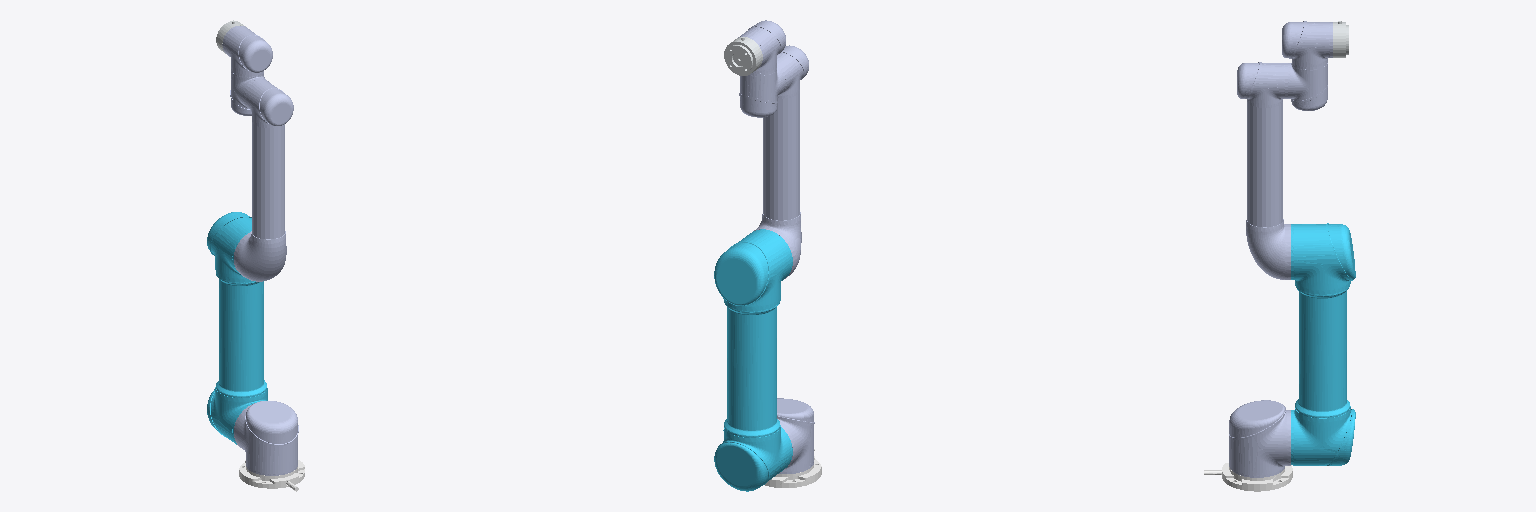
The robot description file, URDF, robot "ur5_description":
<?xml version="1.0" encoding="utf-8"?>
<!-- This URDF was automatically created by SolidWorks to URDF Exporter! Originally created by [author] ([email redacted]) 
     Commit Version: 1.5.1-0-g916b5db  Build Version: 1.5.7152.31018
     For more information, please see http://wiki.ros.org/sw_urdf_exporter -->
<robot
  name="ur5_description">
  <link
    name="base_link">
    <inertial>
      <origin
        xyz="2.2379E-05 -0.00077074 0.010876"
        rpy="0 0 0" />
      <mass
        value="0.34861" />
      <inertia
        ixx="0.00045733"
        ixy="7.2083E-08"
        ixz="5.4072E-08"
        iyy="0.00042831"
        iyz="-5.9393E-07"
        izz="0.00085476" />
    </inertial>
    <visual>
      <origin
        xyz="0 0 0"
        rpy="0 0 0" />
      <geometry>
        <mesh
          filename="package://ur5_description/meshes/base_link.STL" />
      </geometry>
      <material
        name="">
        <color
          rgba="1 1 1 1" />
      </material>
    </visual>
    <collision>
      <origin
        xyz="0 0 0"
        rpy="0 0 0" />
      <geometry>
        <mesh
          filename="package://ur5_description/meshes/base_link.STL" />
      </geometry>
    </collision>
  </link>
  <link
    name="link_1">
    <inertial>
      <origin
        xyz="1.8316E-06 0.063328 -0.0092426"
        rpy="0 0 0" />
      <mass
        value="1.556" />
      <inertia
        ixx="0.0028144"
        ixy="-3.5877E-08"
        ixz="-2.053E-08"
        iyy="0.0030181"
        iyz="0.00041338"
        izz="0.0025808" />
    </inertial>
    <visual>
      <origin
        xyz="0 0 0"
        rpy="0 0 0" />
      <geometry>
        <mesh
          filename="package://ur5_description/meshes/link_1.STL" />
      </geometry>
      <material
        name="">
        <color
          rgba="0.79216 0.81961 0.93333 1" />
      </material>
    </visual>
    <collision>
      <origin
        xyz="0 0 0"
        rpy="0 0 0" />
      <geometry>
        <mesh
          filename="package://ur5_description/meshes/link_1.STL" />
      </geometry>
    </collision>
  </link>
  <joint
    name="joint_1"
    type="revolute">
    <origin
      xyz="0 0 0.024"
      rpy="1.5708 0 0" />
    <parent
      link="base_link" />
    <child
      link="link_1" />
    <axis
      xyz="0 -1 0" />
    <limit
      lower="-3.14"
      upper="3.14"
      effort="150"
      velocity="3.14" />
  </joint>
  <link
    name="link_2">
    <inertial>
      <origin
        xyz="-6.9975481714835E-09 0.212500774803063 -0.0641198851376631"
        rpy="0 0 0" />
      <mass
        value="5.39321385176719" />
      <inertia
        ixx="0.0229052047363308"
        ixy="-3.80485736402523E-08"
        ixz="-1.33095715729492E-09"
        iyy="0.00808975921379843"
        iyz="-5.25735080933302E-10"
        izz="0.0233126134438523" />
    </inertial>
    <visual>
      <origin
        xyz="0 0 0"
        rpy="0 0 0" />
      <geometry>
        <mesh
          filename="package://ur5_description/meshes/link_2.STL" />
      </geometry>
      <material
        name="">
        <color
          rgba="0.333333333333333 0.862745098039216 1 1" />
      </material>
    </visual>
    <collision>
      <origin
        xyz="0 0 0"
        rpy="0 0 0" />
      <geometry>
        <mesh
          filename="package://ur5_description/meshes/link_2.STL" />
      </geometry>
    </collision>
  </link>
  <joint
    name="joint_2"
    type="revolute">
    <origin
      xyz="0 0.0652 -0.0705"
      rpy="0 0 0" />
    <parent
      link="link_1" />
    <child
      link="link_2" />
    <axis
      xyz="0 0 1" />
    <limit
      lower="-3.14"
      upper="3.14"
      effort="150"
      velocity="3.14" />
  </joint>
  <link
    name="link_3">
    <inertial>
      <origin
        xyz="4.48591355879564E-08 0.184385161816603 0.0500891493611347"
        rpy="0 0 0" />
      <mass
        value="2.51858519755964" />
      <inertia
        ixx="0.00958504077999387"
        ixy="4.148722095138E-08"
        ixz="6.14723476893109E-09"
        iyy="0.00217646355290865"
        iyz="-0.00015208461045435"
        izz="0.00967914820040632" />
    </inertial>
    <visual>
      <origin
        xyz="0 0 0"
        rpy="0 0 0" />
      <geometry>
        <mesh
          filename="package://ur5_description/meshes/link_3.STL" />
      </geometry>
      <material
        name="">
        <color
          rgba="0.792156862745098 0.819607843137255 0.933333333333333 1" />
      </material>
    </visual>
    <collision>
      <origin
        xyz="0 0 0"
        rpy="0 0 0" />
      <geometry>
        <mesh
          filename="package://ur5_description/meshes/link_3.STL" />
      </geometry>
    </collision>
  </link>
  <joint
    name="joint_3"
    type="revolute">
    <origin
      xyz="0 0.425 0"
      rpy="0 0 0" />
    <parent
      link="link_2" />
    <child
      link="link_3" />
    <axis
      xyz="0 0 1" />
    <limit
      lower="-3.14"
      upper="3.14"
      effort="150"
      velocity="3.14" />
  </joint>
  <link
    name="link_4">
    <inertial>
      <origin
        xyz="0.000267439864317399 -0.00317622153547115 -0.0410560934864477"
        rpy="0 0 0" />
      <mass
        value="0.515206254007367" />
      <inertia
        ixx="0.000399706734339536"
        ixy="-2.82972081805418E-10"
        ixz="-9.65116686398988E-09"
        iyy="0.000407751087898542"
        iyz="5.63390381941324E-05"
        izz="0.000372352818817745" />
    </inertial>
    <visual>
      <origin
        xyz="0 0 0"
        rpy="0 0 0" />
      <geometry>
        <mesh
          filename="package://ur5_description/meshes/link_4.STL" />
      </geometry>
      <material
        name="">
        <color
          rgba="0.792156862745098 0.819607843137255 0.933333333333333 1" />
      </material>
    </visual>
    <collision>
      <origin
        xyz="0 0 0"
        rpy="0 0 0" />
      <geometry>
        <mesh
          filename="package://ur5_description/meshes/link_4.STL" />
      </geometry>
    </collision>
  </link>
  <joint
    name="joint_4"
    type="revolute">
    <origin
      xyz="0 0.39243 0.007"
      rpy="0 0 0" />
    <parent
      link="link_3" />
    <child
      link="link_4" />
    <axis
      xyz="0 0 -1" />
    <limit
      lower="-3.14"
      upper="3.14"
      effort="150"
      velocity="3.14" />
  </joint>
  <link
    name="link_5">
    <inertial>
      <origin
        xyz="7.83854854126579E-05 0.041077285875557 0.00362613301231042"
        rpy="0 0 0" />
      <mass
        value="0.514944791822967" />
      <inertia
        ixx="0.000399268233437844"
        ixy="5.80168826194153E-09"
        ixz="-4.61368287522735E-09"
        iyy="0.000372230714889473"
        iyz="5.62591191055601E-05"
        izz="0.000407328693172721" />
    </inertial>
    <visual>
      <origin
        xyz="0 0 0"
        rpy="0 0 0" />
      <geometry>
        <mesh
          filename="package://ur5_description/meshes/link_5.STL" />
      </geometry>
      <material
        name="">
        <color
          rgba="0.792156862745098 0.819607843137255 0.933333333333333 1" />
      </material>
    </visual>
    <collision>
      <origin
        xyz="0 0 0"
        rpy="0 0 0" />
      <geometry>
        <mesh
          filename="package://ur5_description/meshes/link_5.STL" />
      </geometry>
    </collision>
  </link>
  <joint
    name="joint_5"
    type="revolute">
    <origin
      xyz="0.00026549 0.047898 -0.0455"
      rpy="0 0 0" />
    <parent
      link="link_4" />
    <child
      link="link_5" />
    <axis
      xyz="0 1 0" />
    <limit
      lower="-3.14"
      upper="3.14"
      effort="150"
      velocity="3.14" />
  </joint>
  <link
    name="link_6">
    <inertial>
      <origin
        xyz="1.259858710466E-09 6.22572740960337E-05 -0.0157714392324549"
        rpy="0 0 0" />
      <mass
        value="0.137899158818492" />
      <inertia
        ixx="5.98863552131521E-05"
        ixy="-5.2187246790267E-12"
        ixz="-1.57401817933674E-13"
        iyy="5.95416899053166E-05"
        iyz="-6.61913792737833E-09"
        izz="9.55326593779328E-05" />
    </inertial>
    <visual>
      <origin
        xyz="0 0 0"
        rpy="0 0 0" />
      <geometry>
        <mesh
          filename="package://ur5_description/meshes/link_6.STL" />
      </geometry>
      <material
        name="">
        <color
          rgba="0.898039215686275 0.917647058823529 0.929411764705882 1" />
      </material>
    </visual>
    <collision>
      <origin
        xyz="0 0 0"
        rpy="0 0 0" />
      <geometry>
        <mesh
          filename="package://ur5_description/meshes/link_6.STL" />
      </geometry>
    </collision>
  </link>
  <joint
    name="joint_6"
    type="revolute">
    <origin
      xyz="7.9254E-05 0.0455 -0.047451"
      rpy="0 0 0" />
    <parent
      link="link_5" />
    <child
      link="link_6" />
    <axis
      xyz="0 0 -1" />
    <limit
      lower="-3.14"
      upper="3.14"
      effort="150"
      velocity="3.14" />
  </joint>
</robot>

--- What the picture shows (computed from the rendered views, not written in the file) ---
Views: 3 orthographic renders of the robot side by side, from view 1: azimuth 30°, elevation 25°; view 2: azimuth 150°, elevation 25°; view 3: azimuth 270°, elevation 25°.
Robot: ur5_description — 7 links, 6 joints (6 revolute); root link base_link; default pose: all joints at 0.
Visible links, largest first — view 1: link_2, link_3, link_1, link_5, base_link, link_4; view 2: link_2, link_3, link_1, link_4, link_5, link_6, base_link; view 3: link_2, link_3, link_1, link_5, link_4, base_link, link_6.
Link boxes in pixels (x1=…): link_2: x1=207, y1=212, x2=267, y2=444; link_3: x1=234, y1=79, x2=293, y2=281; link_1: x1=234, y1=401, x2=298, y2=475; link_5: x1=222, y1=26, x2=272, y2=74; base_link: x1=239, y1=460, x2=304, y2=491; link_4: x1=230, y1=69, x2=268, y2=115; link_2: x1=714, y1=229, x2=792, y2=491; link_3: x1=754, y1=45, x2=808, y2=278; link_1: x1=777, y1=398, x2=814, y2=473; link_4: x1=739, y1=66, x2=785, y2=117; link_5: x1=738, y1=20, x2=785, y2=73; link_6: x1=724, y1=37, x2=762, y2=75; base_link: x1=765, y1=448, x2=821, y2=487; link_2: x1=1291, y1=223, x2=1355, y2=465; link_3: x1=1237, y1=62, x2=1290, y2=279; link_1: x1=1229, y1=400, x2=1290, y2=477; link_5: x1=1282, y1=21, x2=1332, y2=66; link_4: x1=1288, y1=61, x2=1327, y2=110; base_link: x1=1204, y1=463, x2=1292, y2=491; link_6: x1=1333, y1=21, x2=1348, y2=57.
Size in the robot's own frame: 0.1464 by 0.3142 by 1.04 metres.
7 mesh visuals loaded from 7 distinct referenced files (7 binary STL).